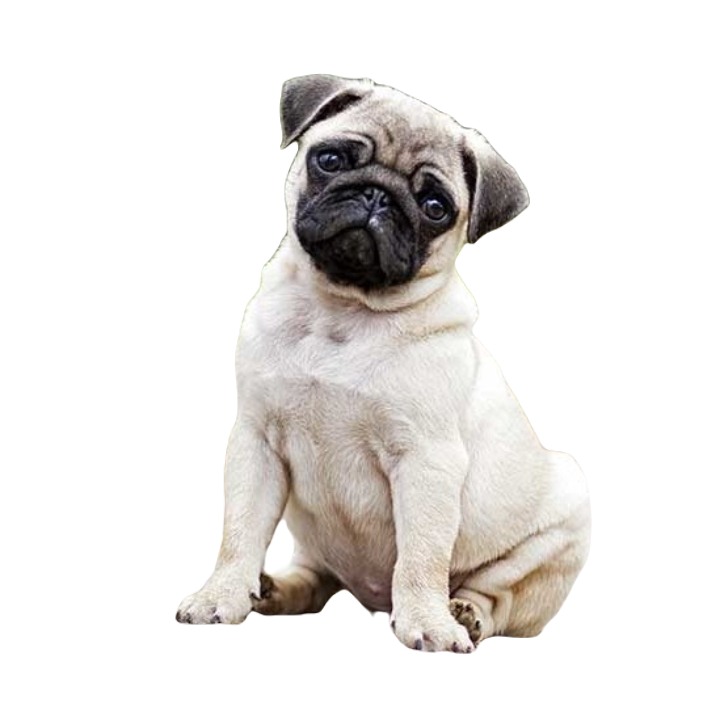Dog: (161, 71, 588, 638)
